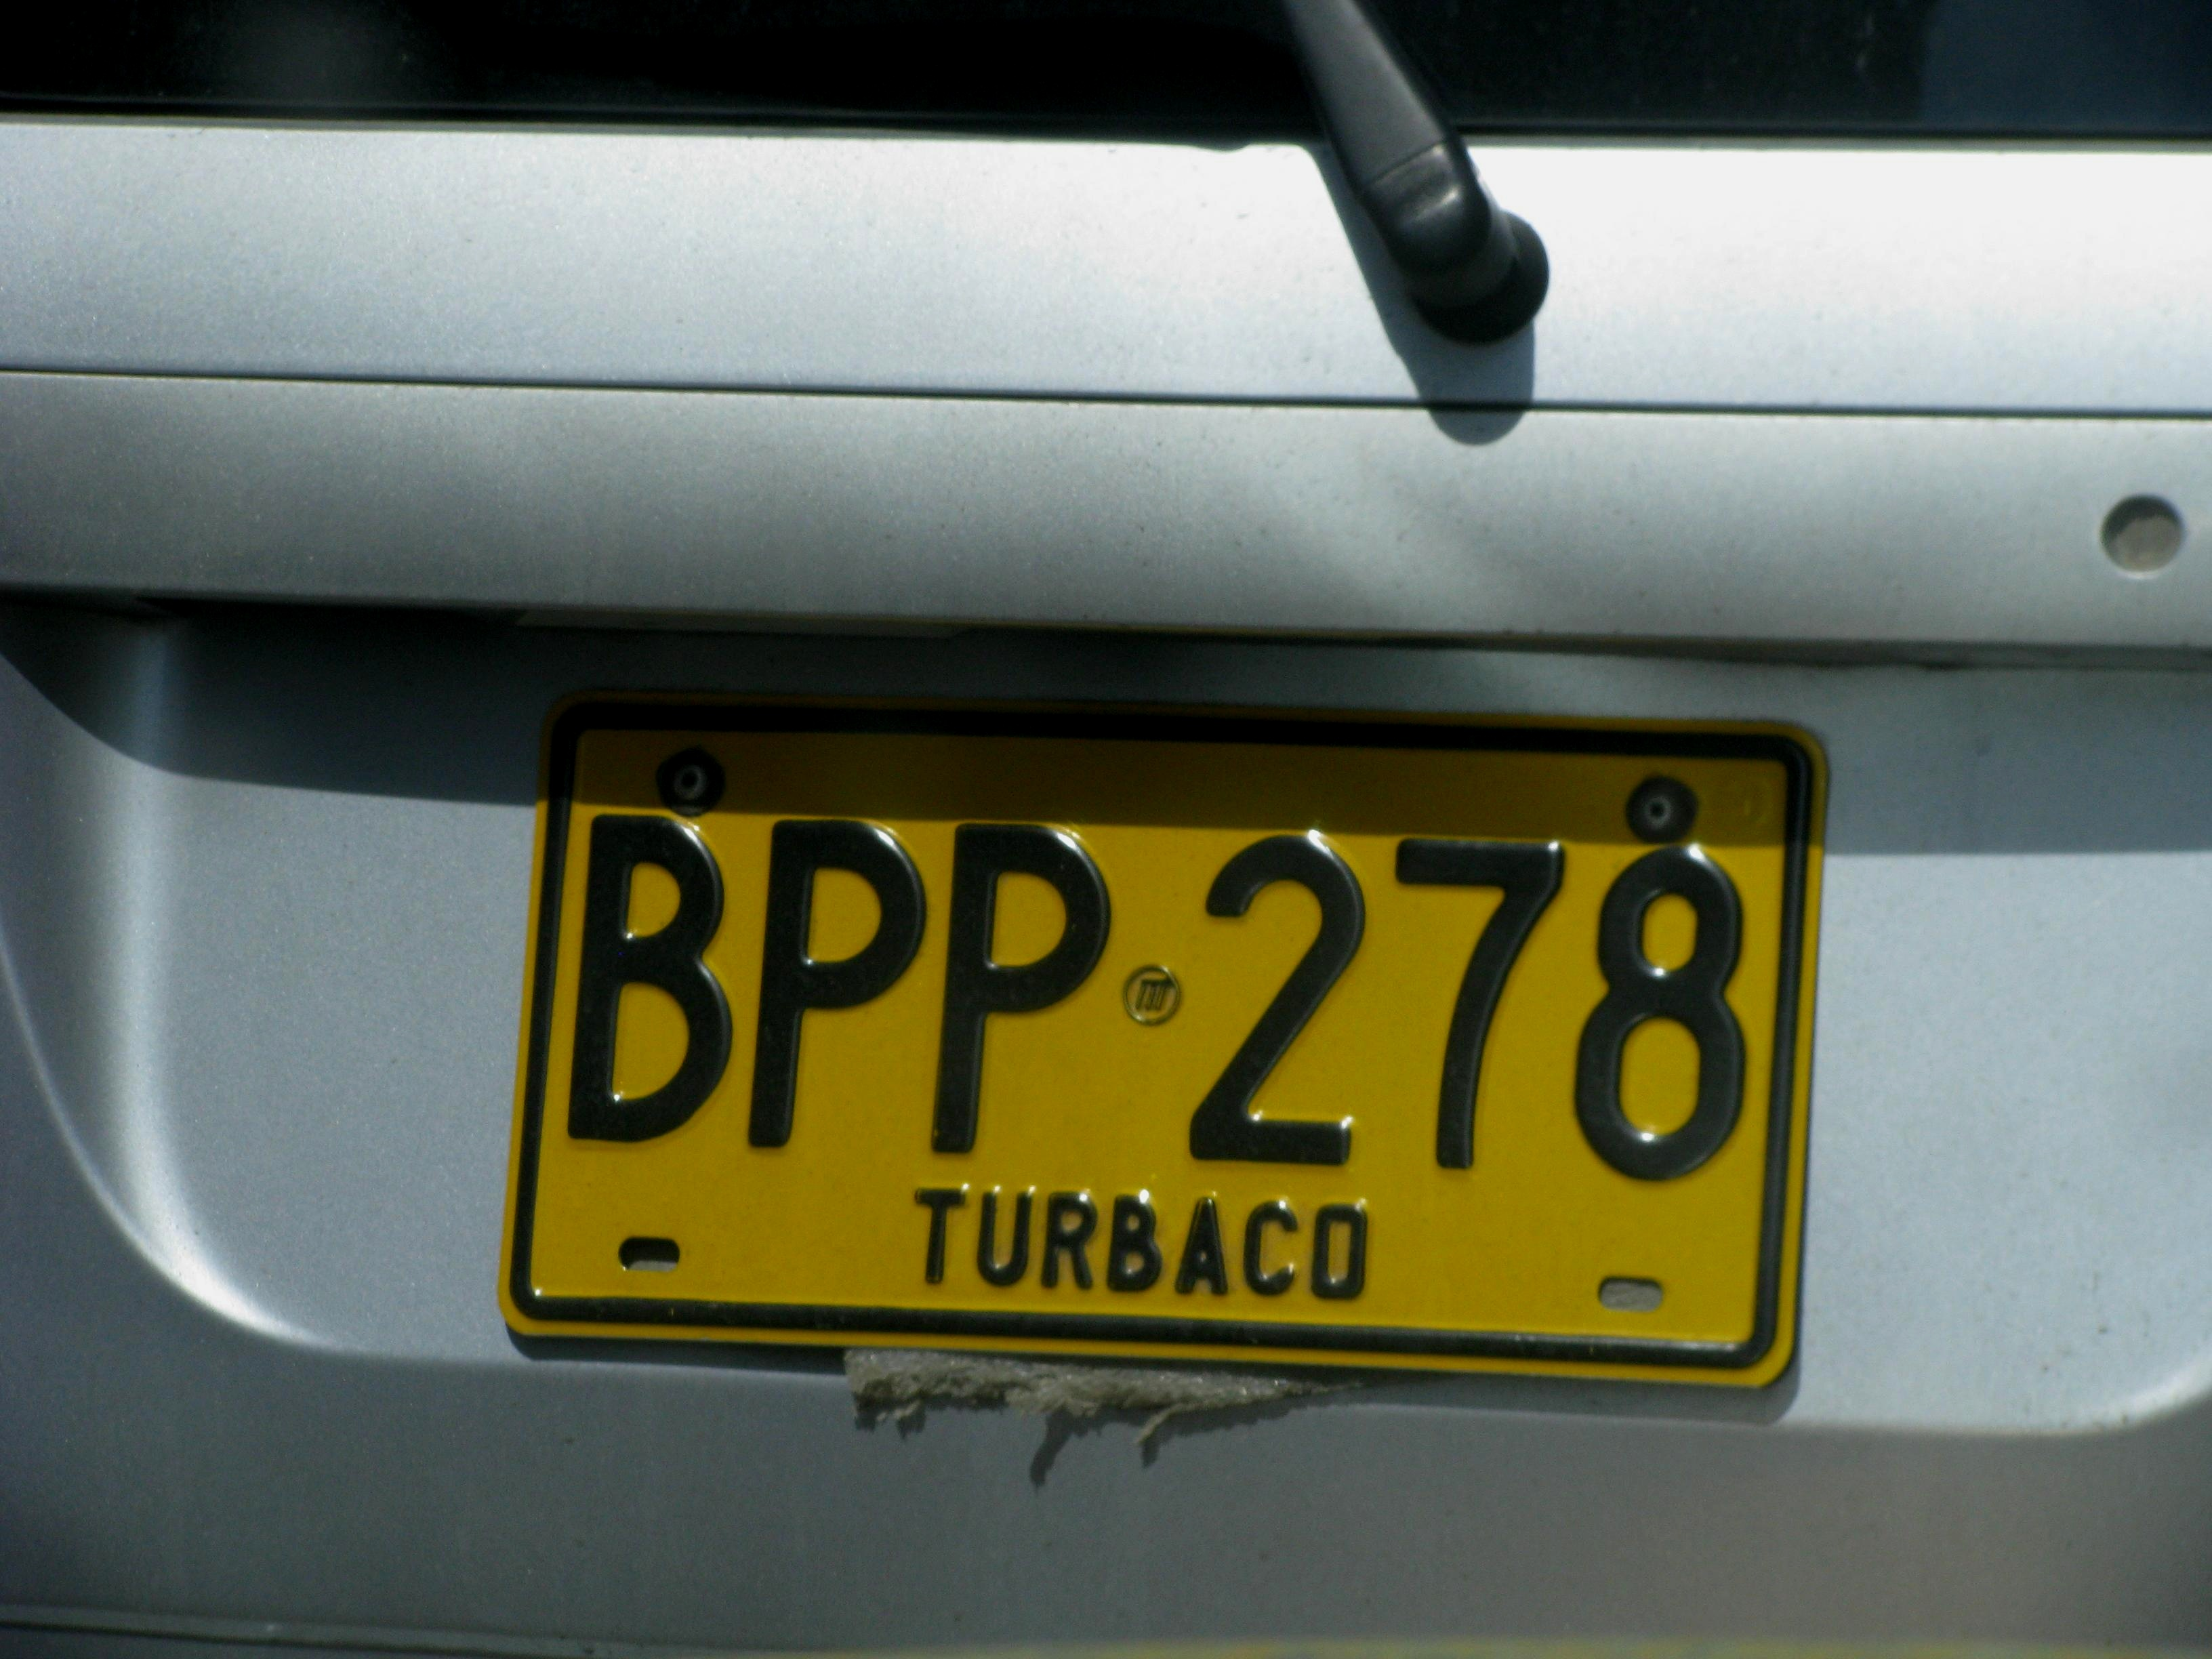placas: (486, 637, 1839, 1392)
